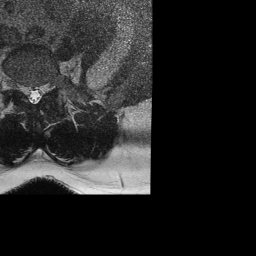CCS_normal: (31, 80, 37, 109)
LFS_normal: (44, 74, 51, 96)
LLS_normal: (37, 79, 44, 104)
RFS_normal: (18, 76, 25, 97)
RLS_normal: (25, 78, 31, 105)
